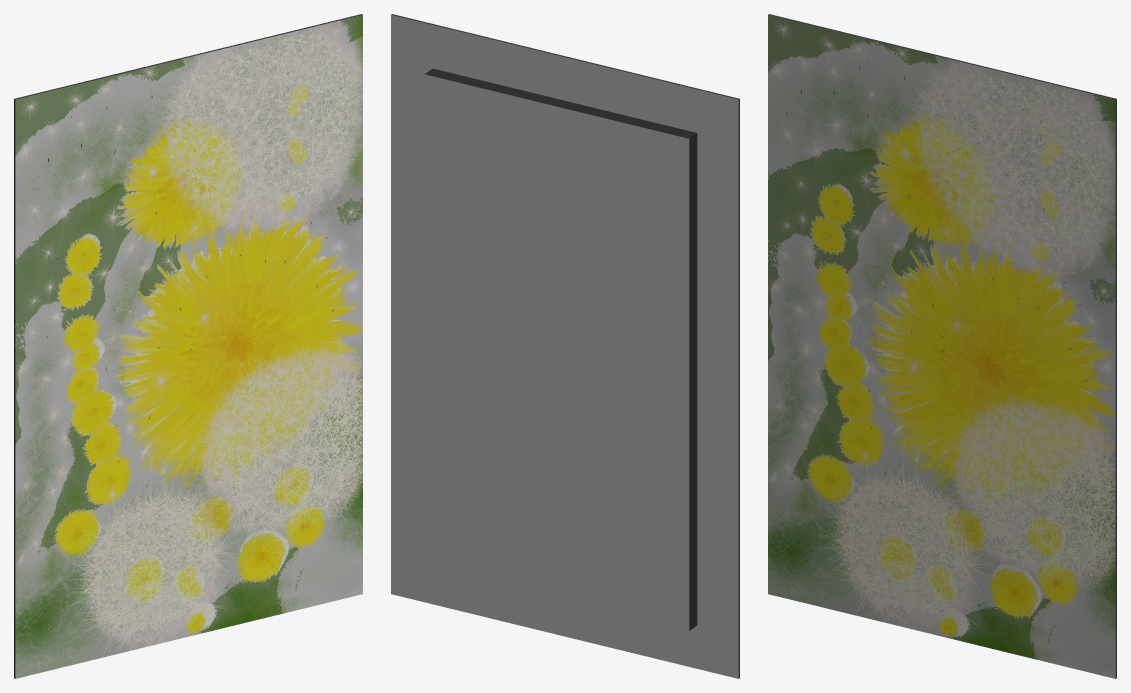
Rendered from os028_moyen_dibond.glb.
The picture shows the model from 3 angles, left to right: view 1: azimuth 30°, elevation 25°; view 2: azimuth 150°, elevation 25°; view 3: azimuth 330°, elevation 25°; orthographic projection.
Visible parts, largest first — view 1: os028_moyen_dibond; view 2: os028_moyen_dibond; view 3: os028_moyen_dibond.
Part boxes in pixels (bbox=[...]): os028_moyen_dibond: bbox=[14, 14, 362, 678]; os028_moyen_dibond: bbox=[391, 14, 739, 678]; os028_moyen_dibond: bbox=[768, 14, 1116, 678].
Size of the model in its own units: 0.5024 by 0.8 by 0.023.
4 materials, 1 textured.
